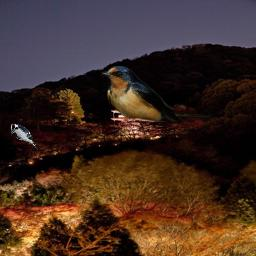Swallow: (101, 66, 213, 122)
Woodpecker: (9, 123, 38, 151)
